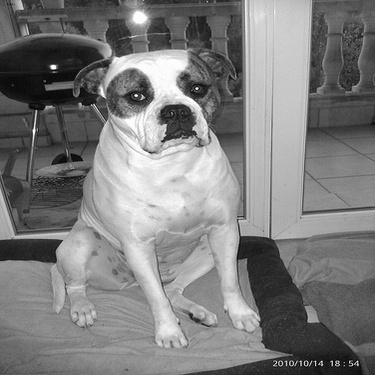dog: (53, 40, 265, 354)
